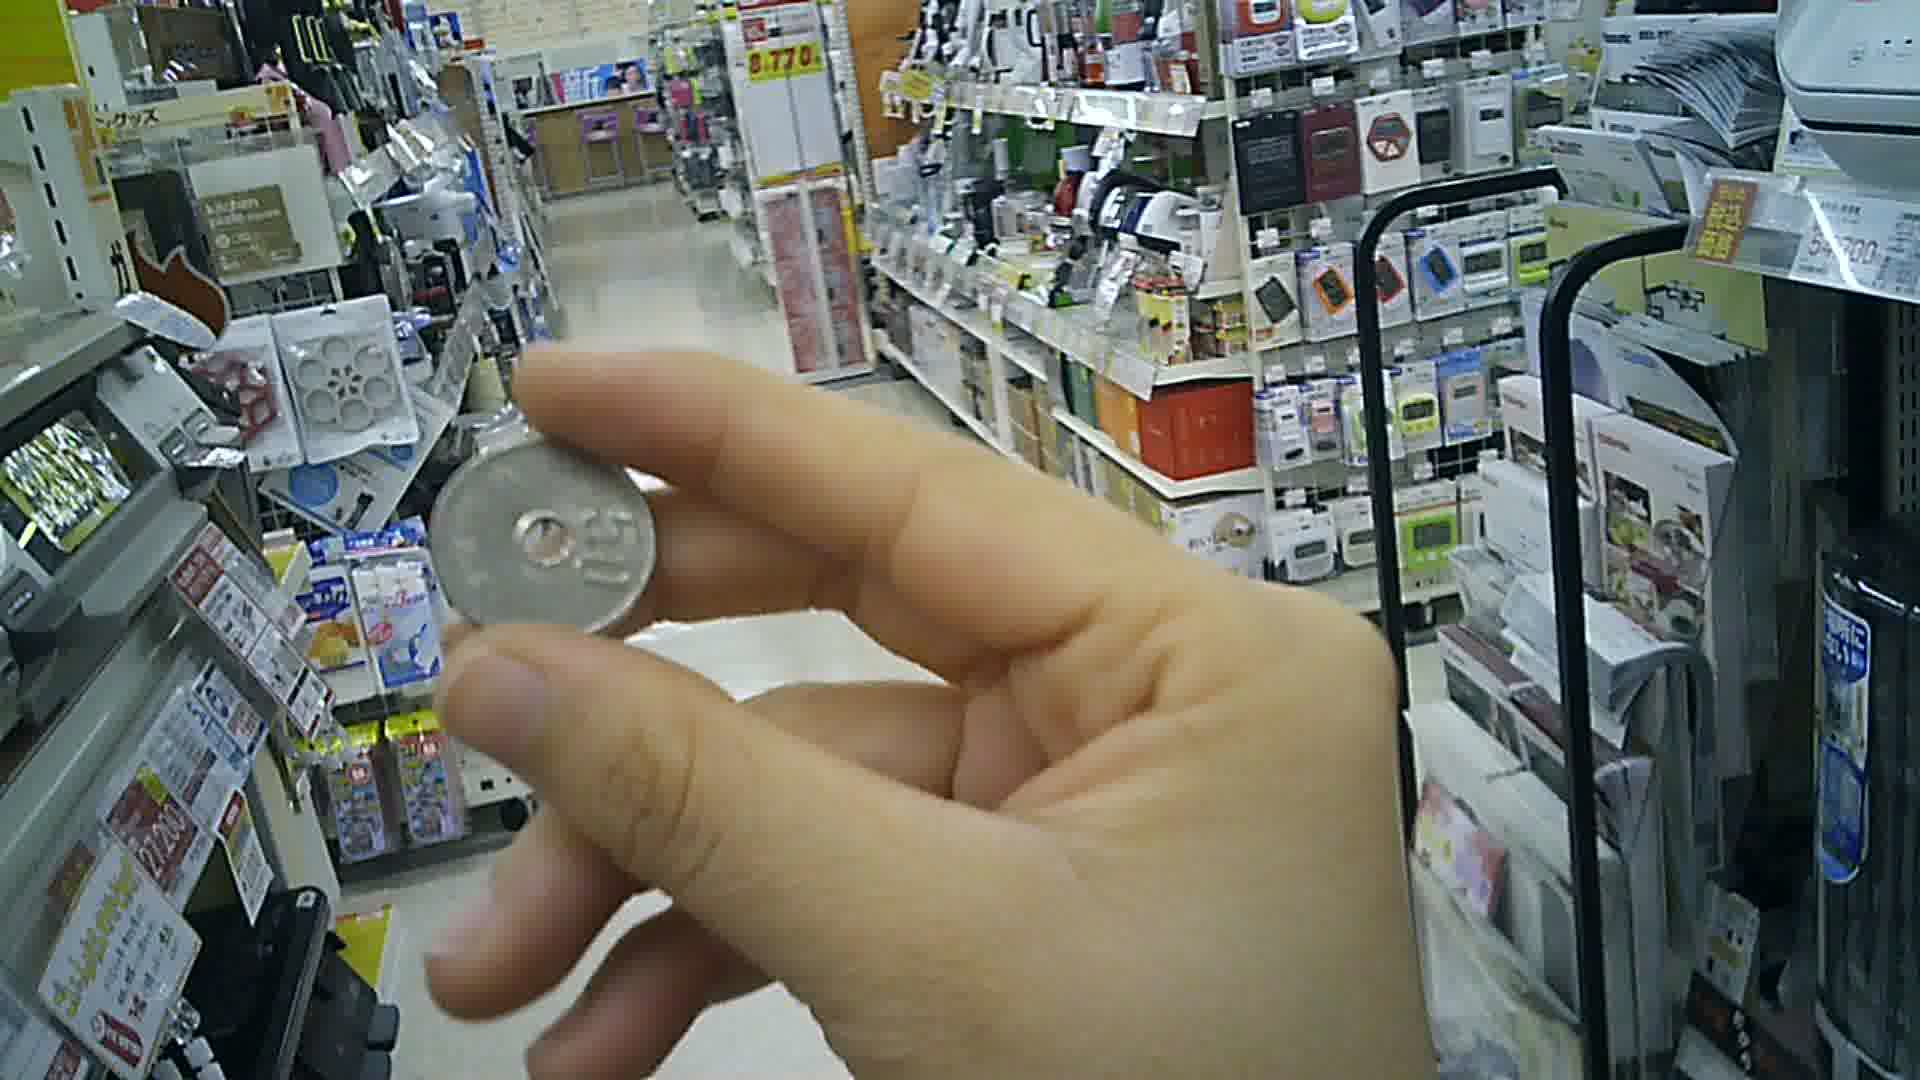50 Yen: (429, 430, 658, 646)
